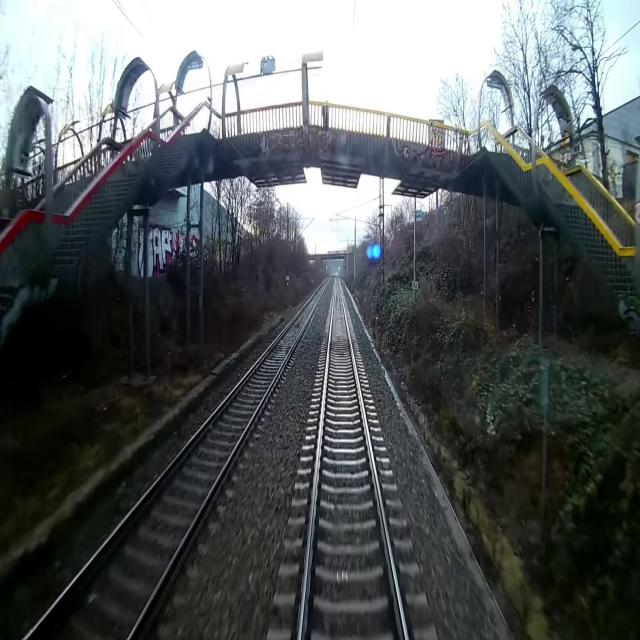rail-track: (27, 276, 330, 639), (302, 273, 404, 639)
